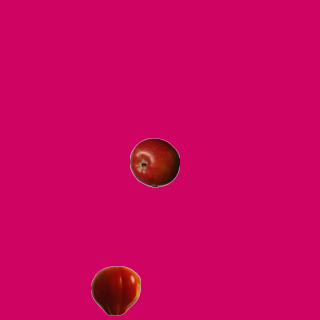Apple Braeburn: (129, 137, 179, 187)
Tomato 1: (90, 265, 140, 315)
